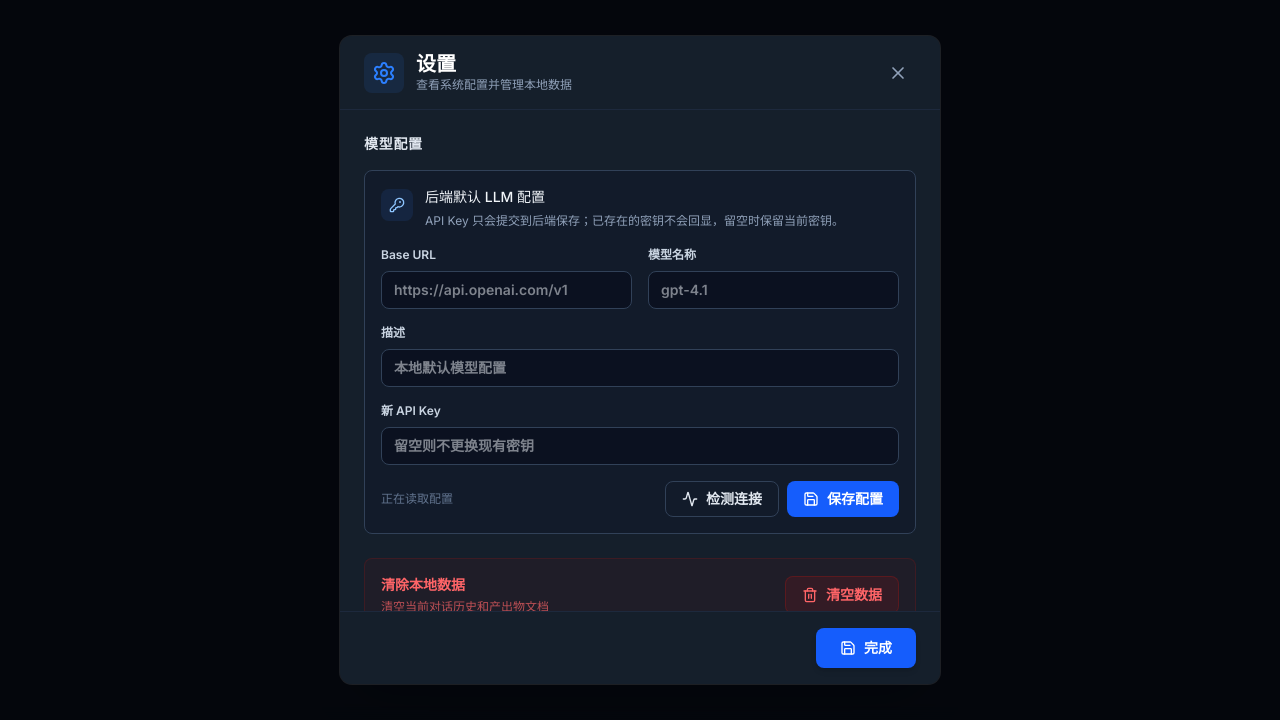
Test: SettingsModal Component › saves default backend config through the management form
The image size is (1280, 720).
In the field labelled "Base URL": (506, 290) x1=381 y1=270 x2=632 y2=308, type "https://api.new.test/v1"
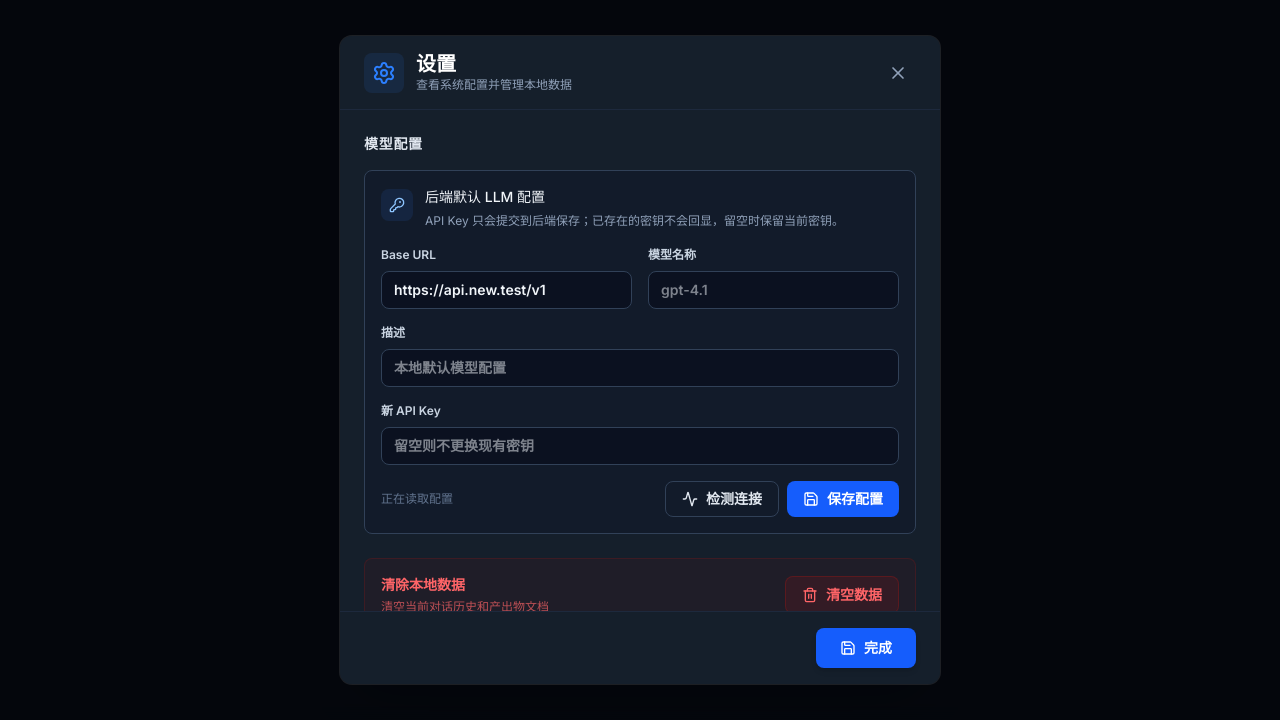
In the field labelled "模型名称": (774, 290) x1=648 y1=270 x2=899 y2=308, type "new-model"
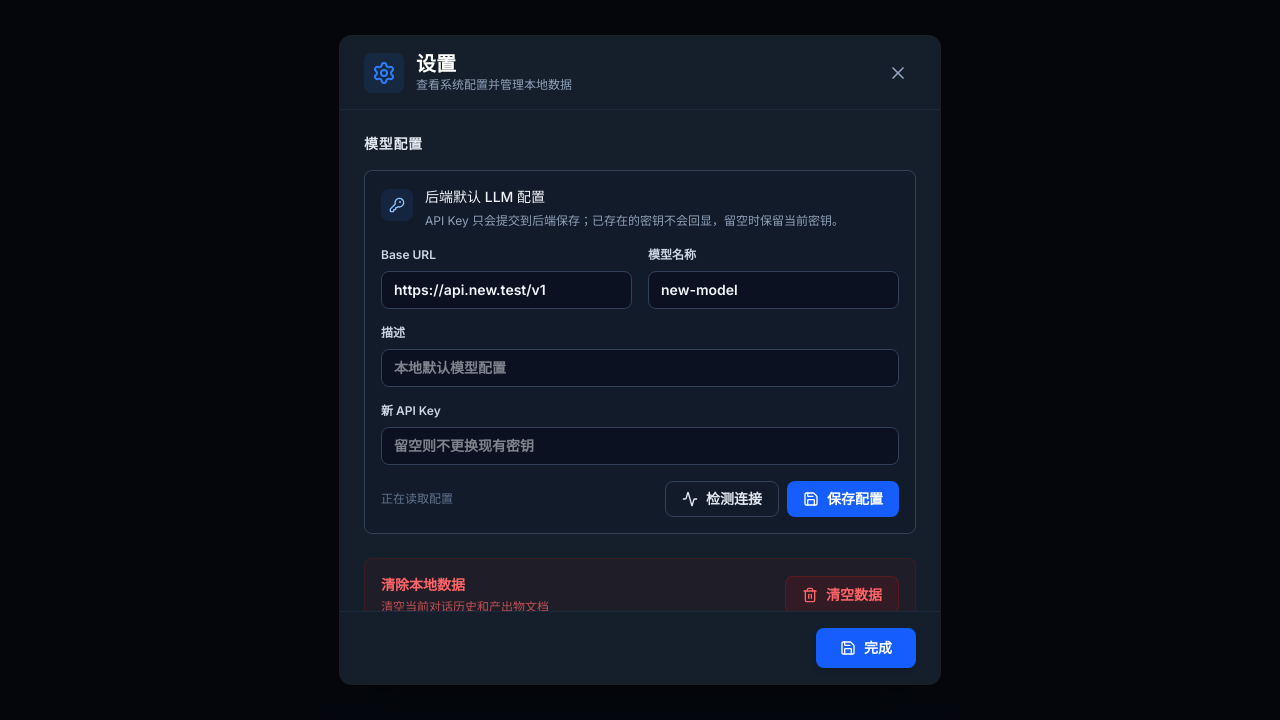
In the field labelled "描述": (640, 368) x1=381 y1=348 x2=899 y2=386, type "New config"
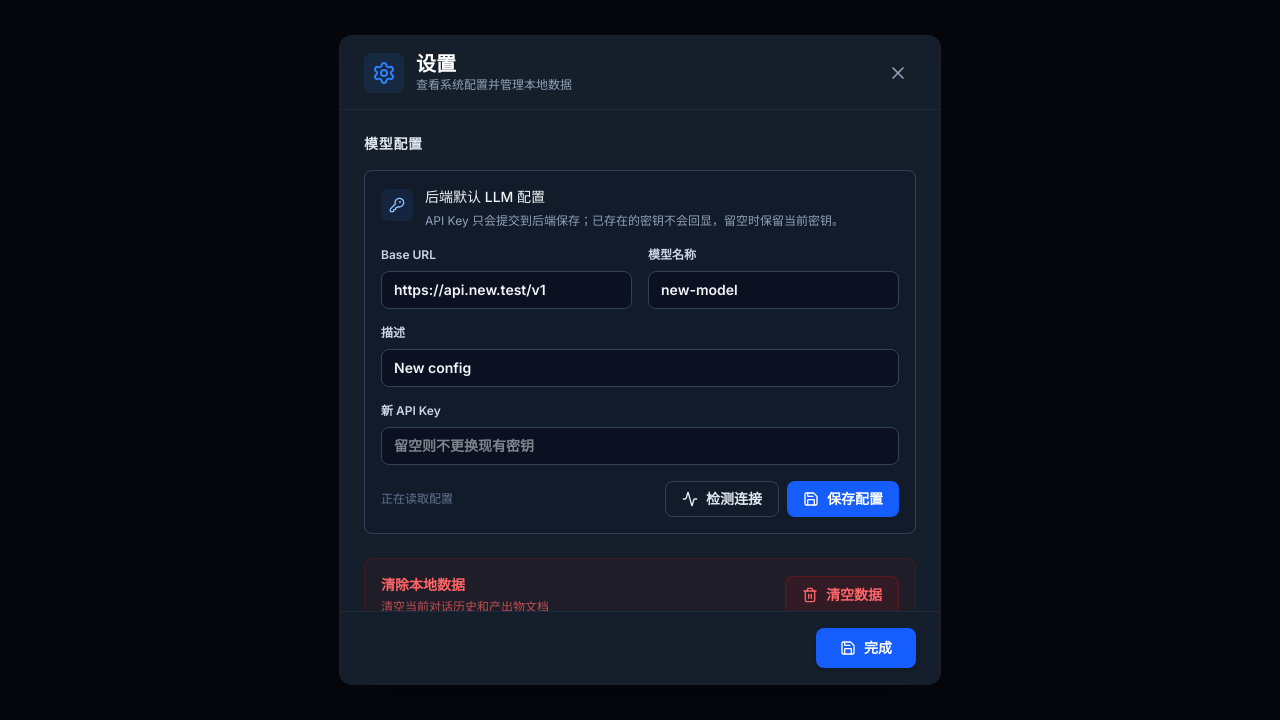
In the password field labelled "新 API Key": (640, 446) x1=381 y1=426 x2=899 y2=464, type "new-secret"
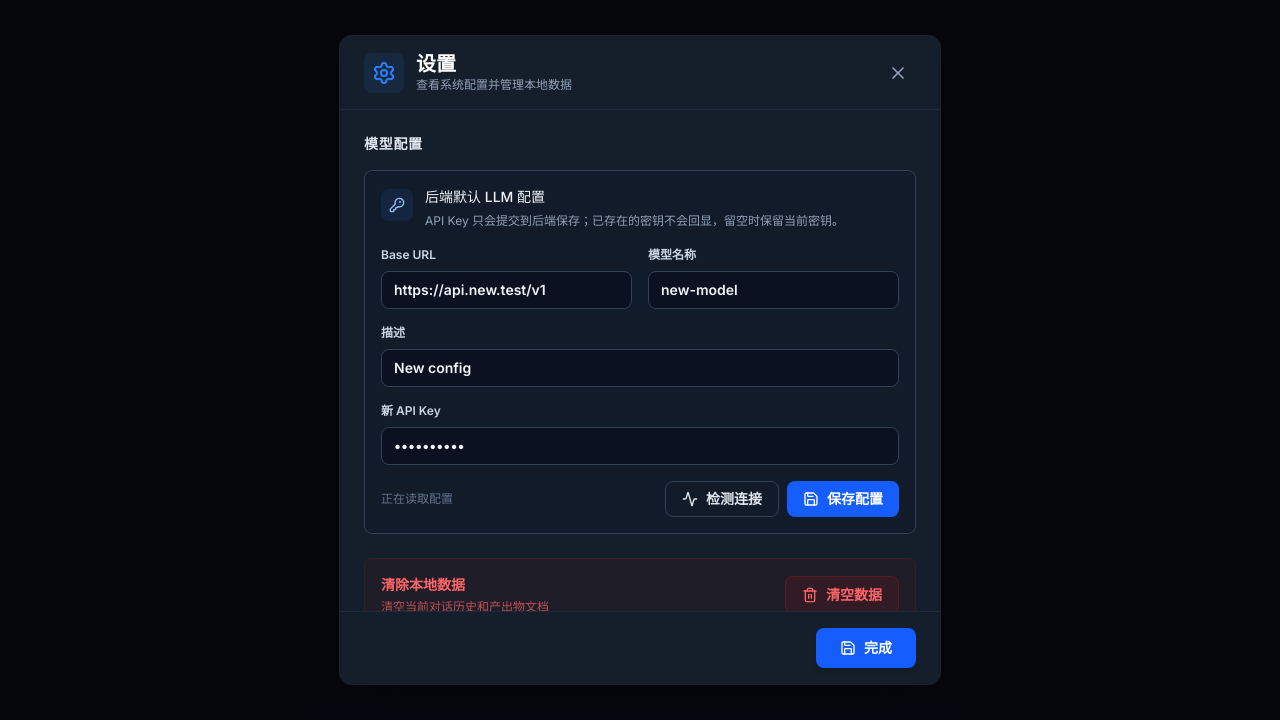
Click the button "保存配置": (843, 498) x1=787 y1=480 x2=899 y2=516
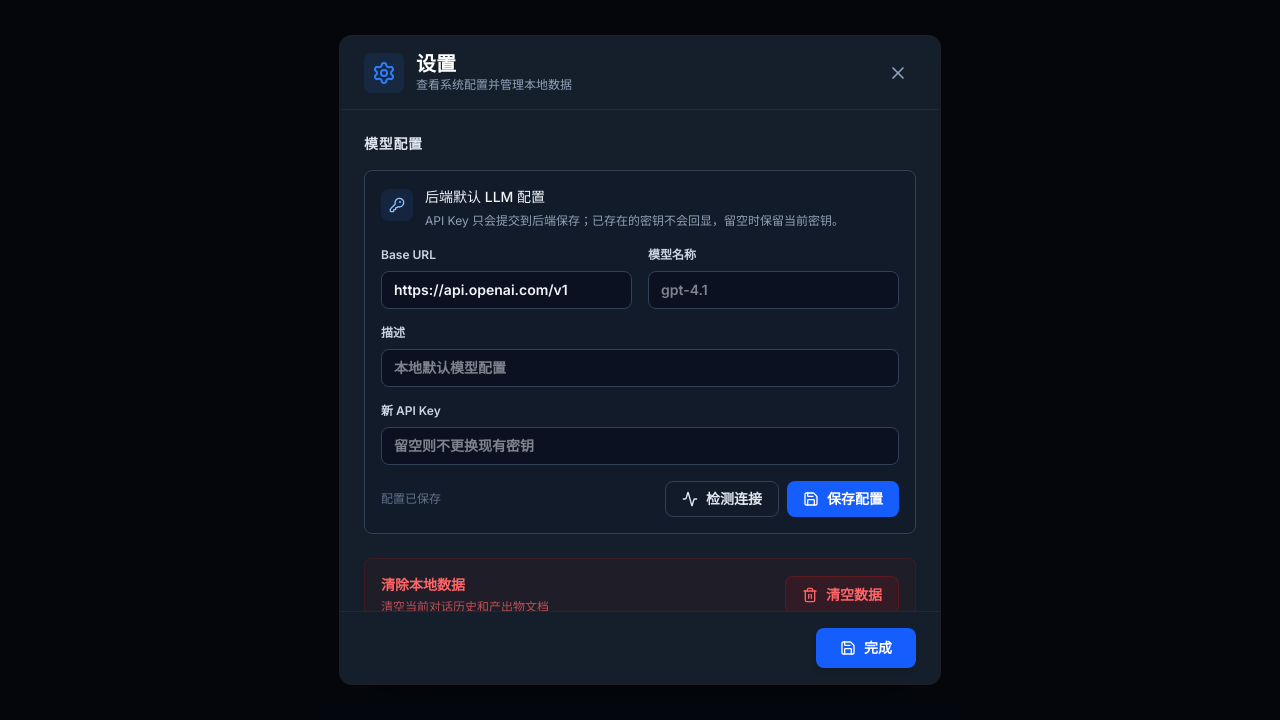
Now the text "配置已保存" is shown, box x1=381 y1=490 x2=441 y2=506
Now the password field labelled "新 API Key" is empty, box x1=381 y1=426 x2=899 y2=464
